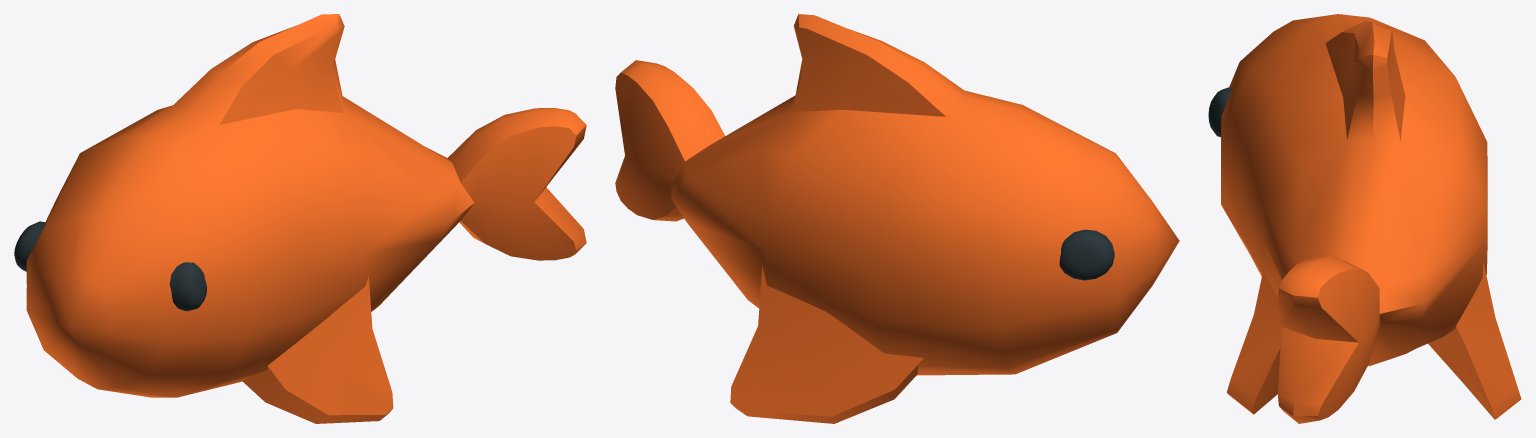
Rendered from fish_small_A.gltf.glb.
3 views of the same model, side by side, from view 1: azimuth 30°, elevation 25°; view 2: azimuth 150°, elevation 25°; view 3: azimuth 270°, elevation 25° (orthographic). The views are drawn at different scales.
Parts seen in each view (by area): view 1: fish_small_A; view 2: fish_small_A; view 3: fish_small_A.
Boxes of the visible parts, x1=… form: fish_small_A: x1=14, y1=14, x2=586, y2=423; fish_small_A: x1=615, y1=14, x2=1179, y2=423; fish_small_A: x1=1208, y1=14, x2=1521, y2=423.
Bounding box in the file's own units: 0.5822 × 0.3774 × 0.2868.
